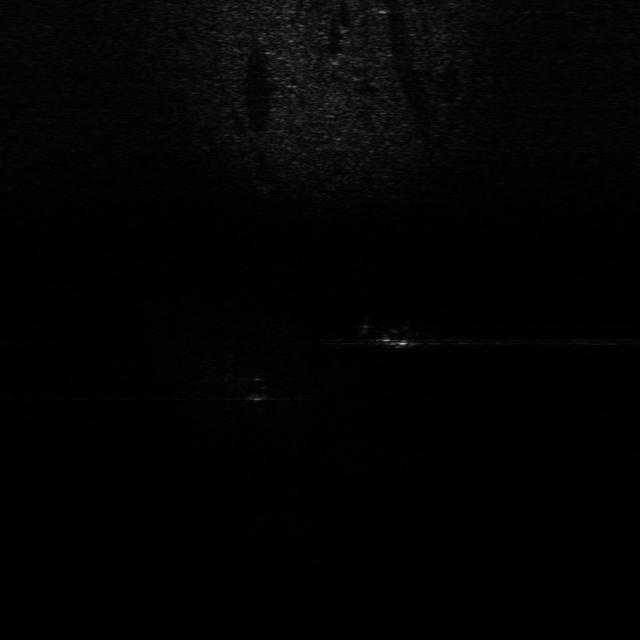ball: (234, 382, 280, 408)
human body: (354, 315, 430, 353)
